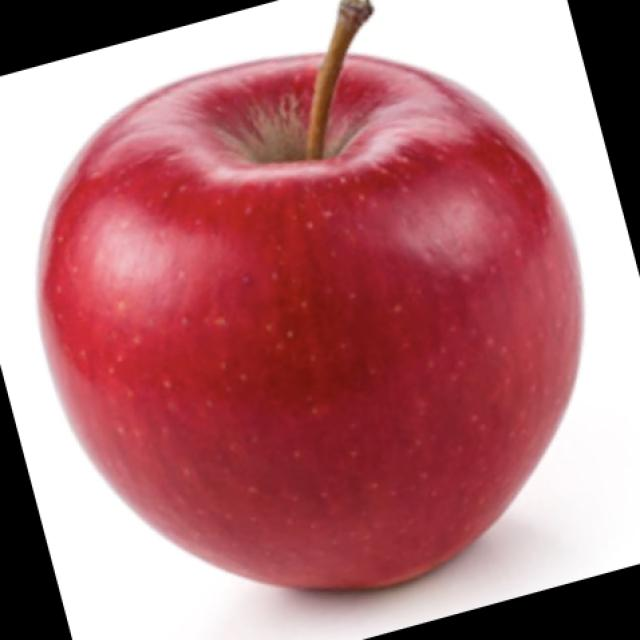organik: (56, 33, 585, 589)
